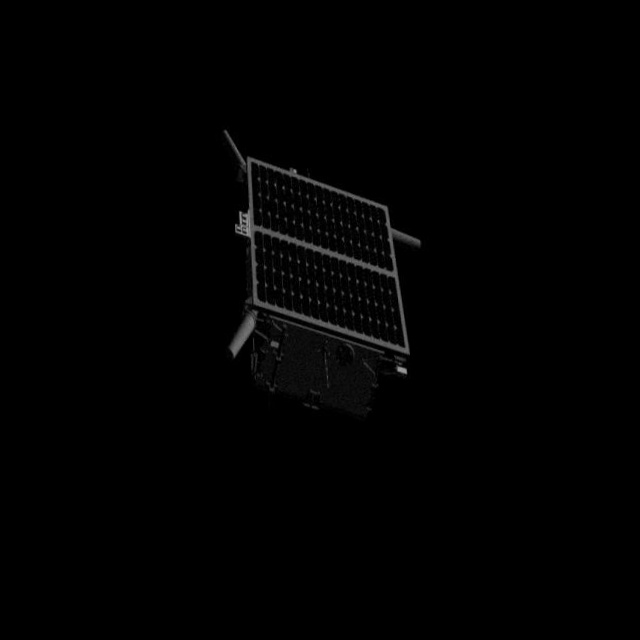satellite: (208, 117, 425, 431)
